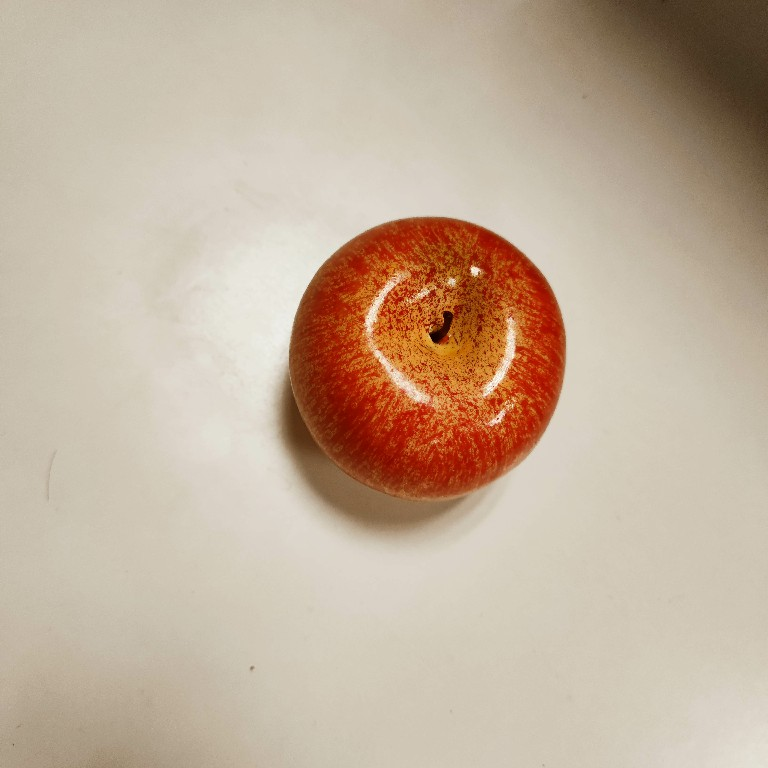fruit_apple: (281, 210, 574, 508)
